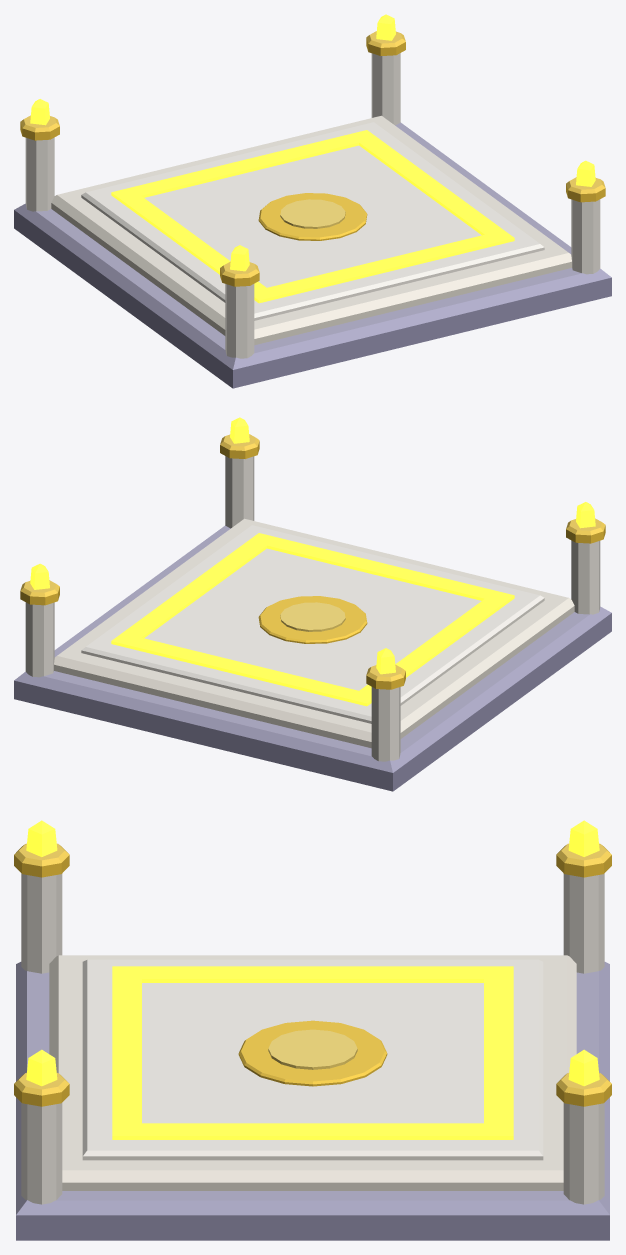
The model's file is Pad_2.glb.
The picture shows the model from 3 angles, top to bottom: view 1: azimuth 30°, elevation 25°; view 2: azimuth 150°, elevation 25°; view 3: azimuth 270°, elevation 25°; orthographic projection. The views are drawn at different scales.
Parts seen in each view (by area): view 1: Pad_2, Pad_2_Glow_acc2; view 2: Pad_2, Pad_2_Glow_acc2; view 3: Pad_2, Pad_2_Glow_acc2.
Boxes of the visible parts, x1,y1,x2,y2 form: Pad_2: [14, 31, 611, 388]; Pad_2_Glow_acc2: [30, 14, 595, 303]; Pad_2: [14, 434, 611, 791]; Pad_2_Glow_acc2: [30, 417, 595, 706]; Pad_2: [14, 843, 611, 1240]; Pad_2_Glow_acc2: [26, 820, 599, 1139].
Bounding box in the file's own units: 16.1 × 5.35 × 16.1.
2 materials, 1 textured.
